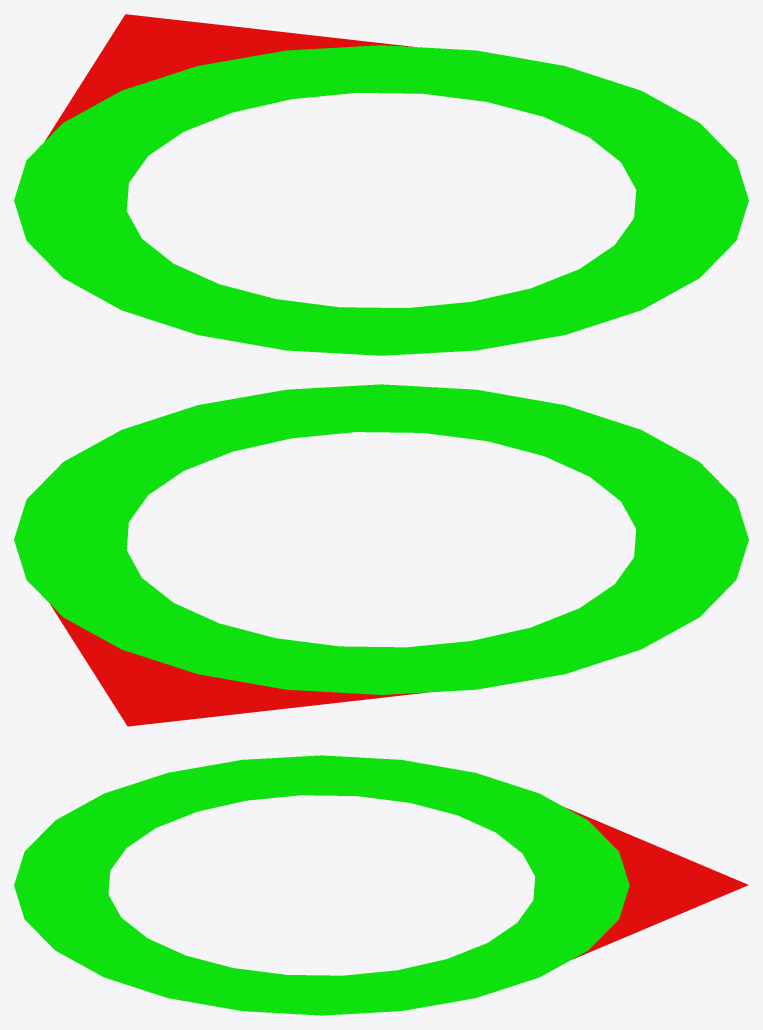
Rendered from selectionCircle.fbx.
3 views of the same model, one above another, from view 1: azimuth 30°, elevation 25°; view 2: azimuth 150°, elevation 25°; view 3: azimuth 270°, elevation 25° (orthographic). The views are drawn at different scales.
Visible parts, largest first — view 1: Model; view 2: Model; view 3: Model.
Boxes of the visible parts, bbox=[...] form: Model: bbox=[14, 14, 748, 355]; Model: bbox=[14, 384, 748, 726]; Model: bbox=[14, 755, 748, 1015].
Size of the model in its own units: 9.54 by 0 by 11.39.
